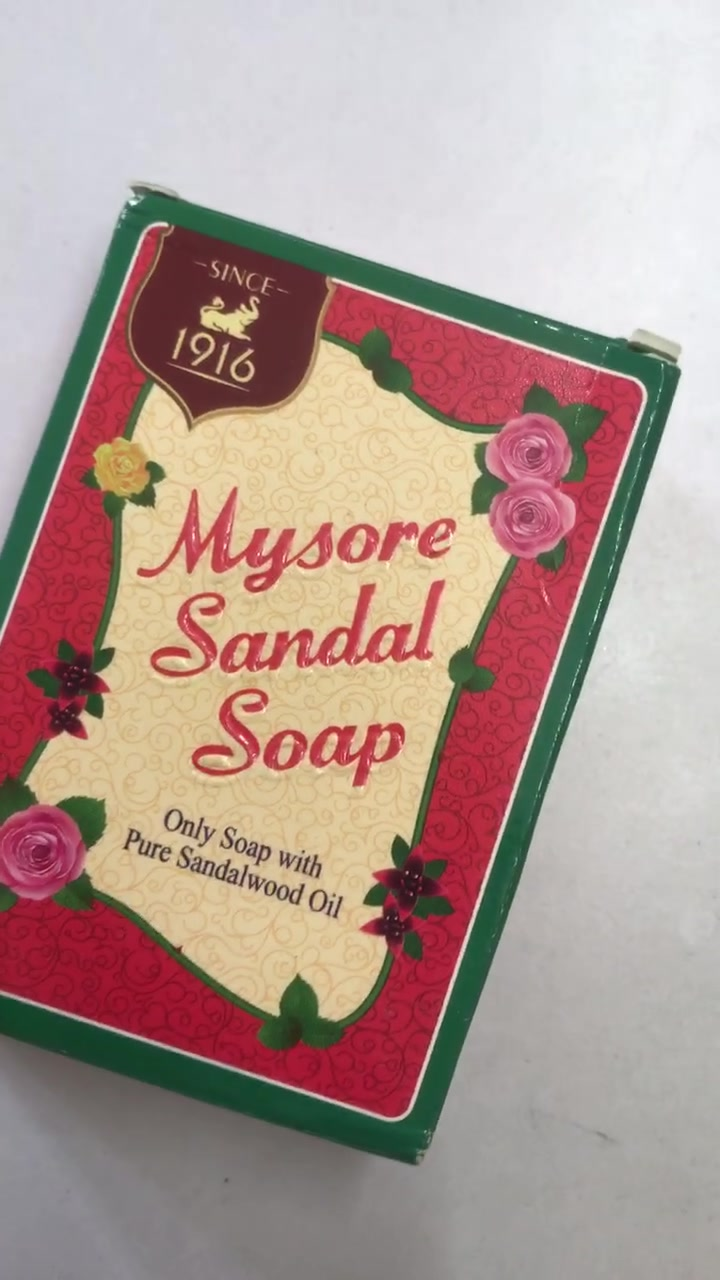mysore sandal soap: (6, 184, 678, 1167)
